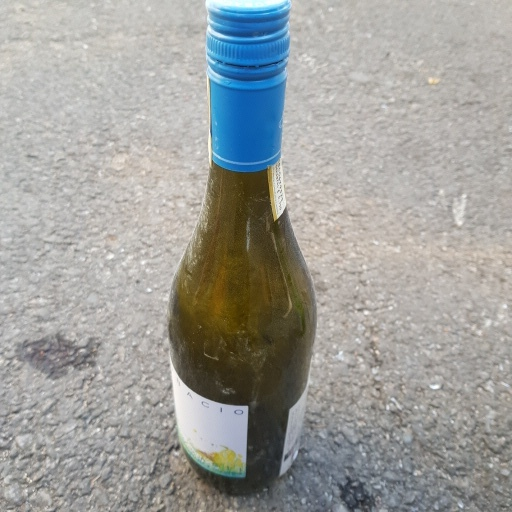Glass_2: (166, 1, 319, 493)
